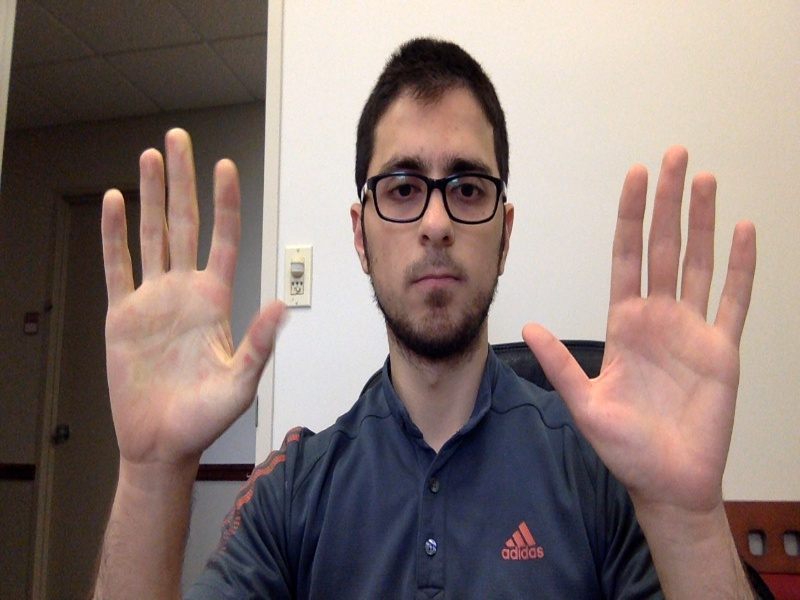5-hand: (525, 147, 756, 492), (102, 129, 283, 459)
